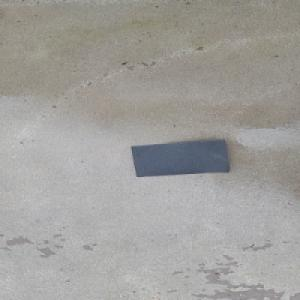PaintChip: (130, 138, 231, 177)
